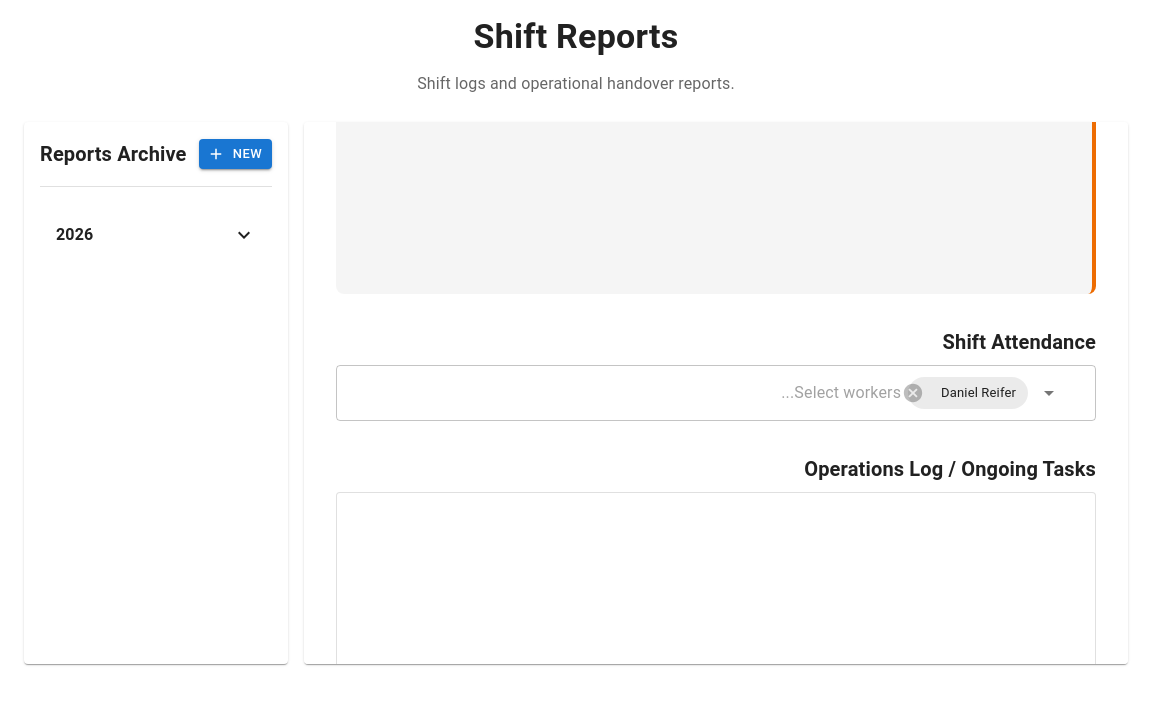
Test: ShiftReportPage - Background Polling State Shielding › attendees and editing › does not offer a deactivated member in the attendee picker
(page scrolled)
Press the mouse on the dropdown with placeholder "Select workers..." at (625, 393), box [345, 374, 905, 412]
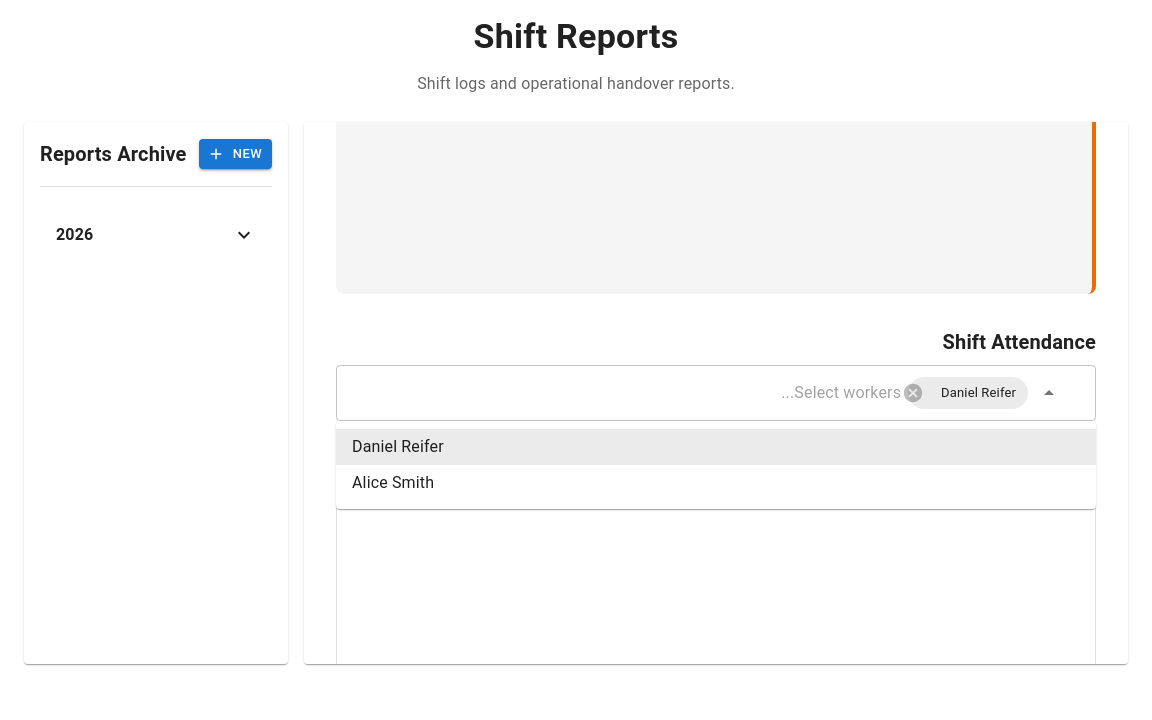
expect the options read "Daniel Reifer", "Alice Smith", in this order: met, box [336, 429, 1096, 465]; [352, 473, 434, 492]
